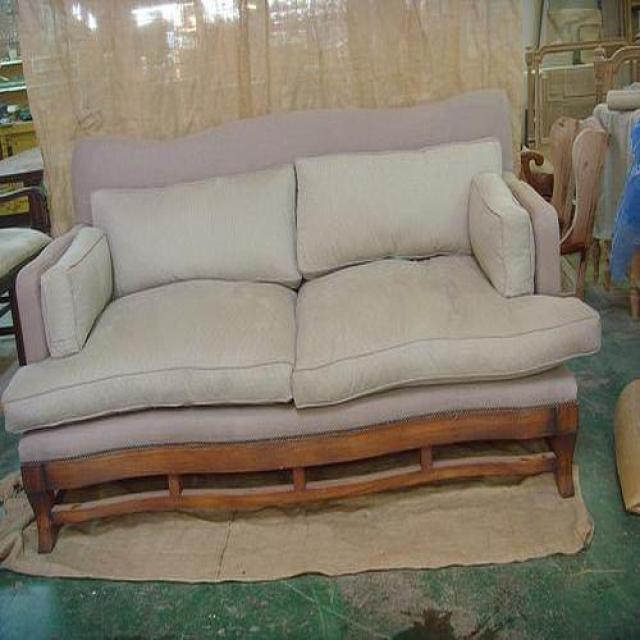sofa: (0, 91, 602, 552)
